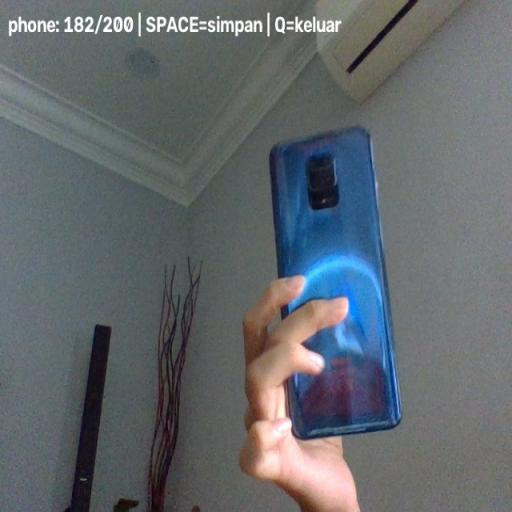Phone: (268, 127, 402, 440)
